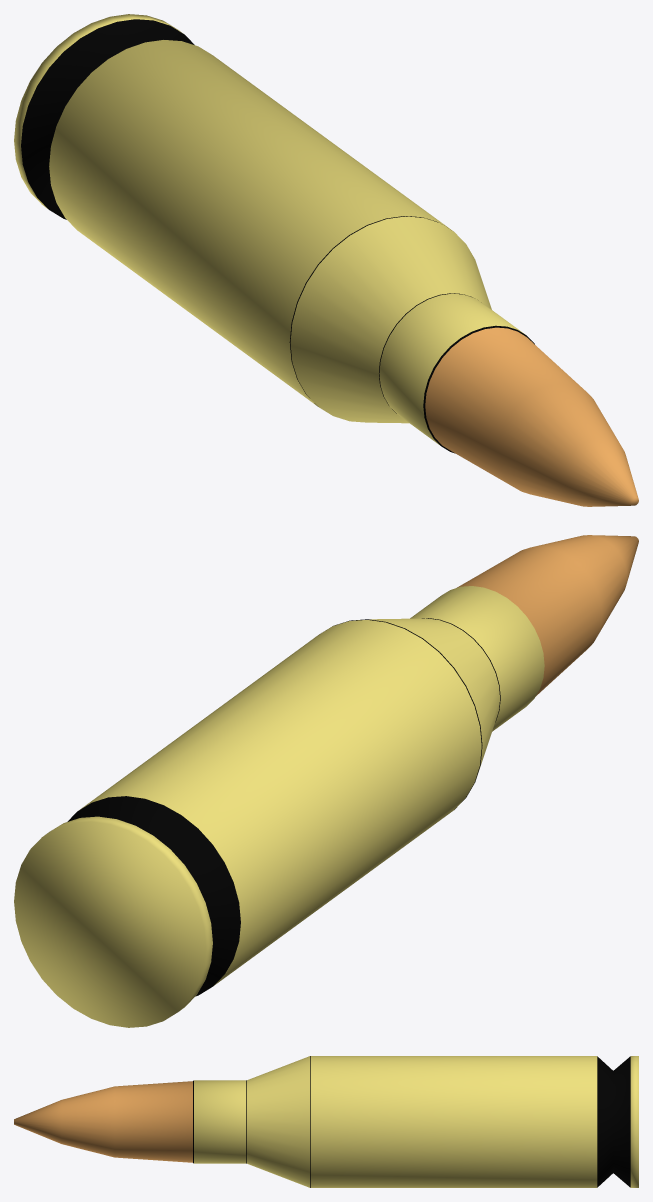
Rendered from bullet.fbx.
3 views of the same model, one above another, from view 1: azimuth 30°, elevation 25°; view 2: azimuth 150°, elevation 25°; view 3: azimuth 270°, elevation 25° (orthographic). The views are drawn at different scales.
Visible parts, largest first — view 1: bullet; view 2: bullet; view 3: bullet.
Part boxes in pixels (<box>): bullet: <box>14,14,638,506</box>; bullet: <box>14,535,638,1027</box>; bullet: <box>14,1056,638,1187</box>.
Bounding box in the file's own units: 200 × 947 × 200.
